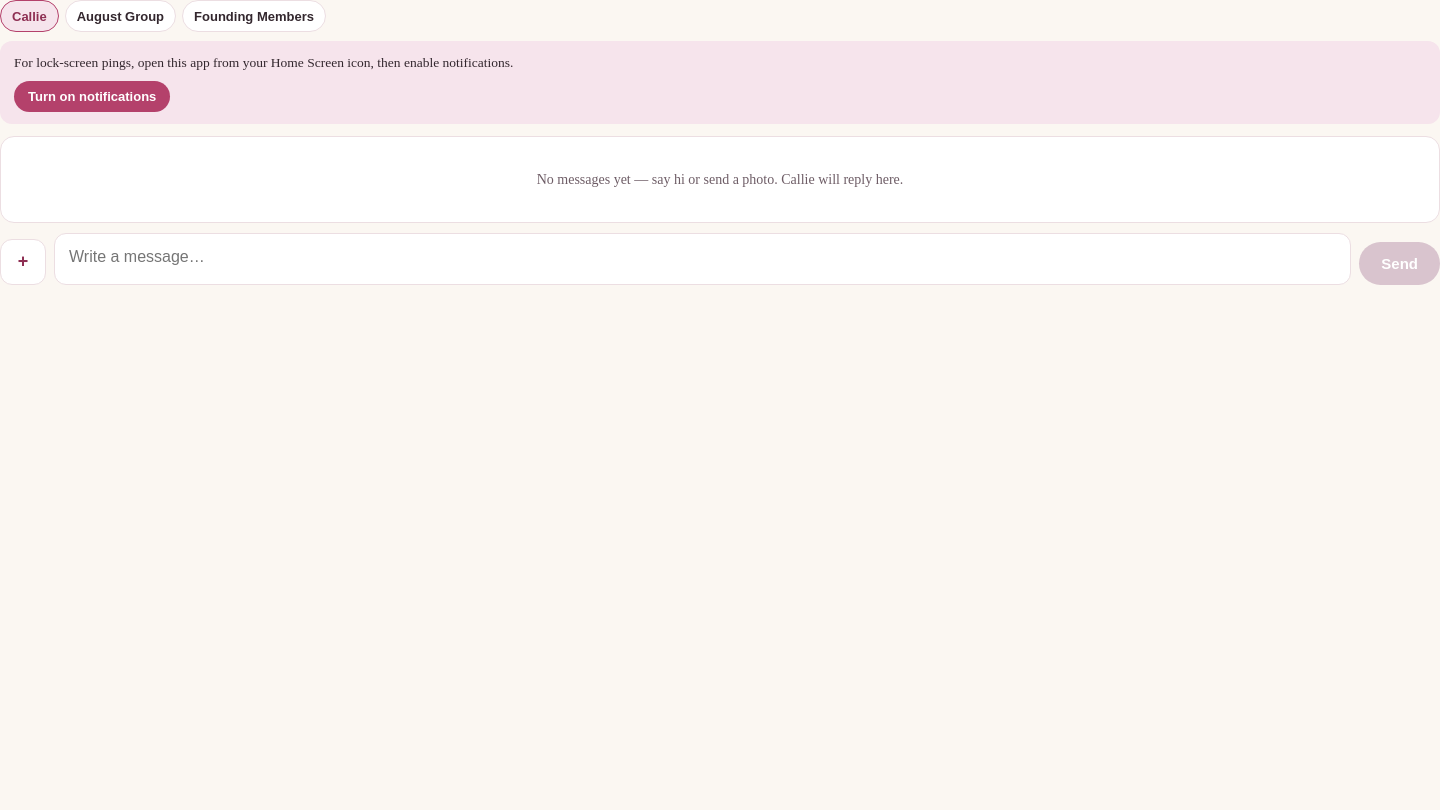
Test: load earlier messages › hides the control for a thread that fits in one page
Click the button "August Group" at coordinates (120, 16), box [65,0,176,32]
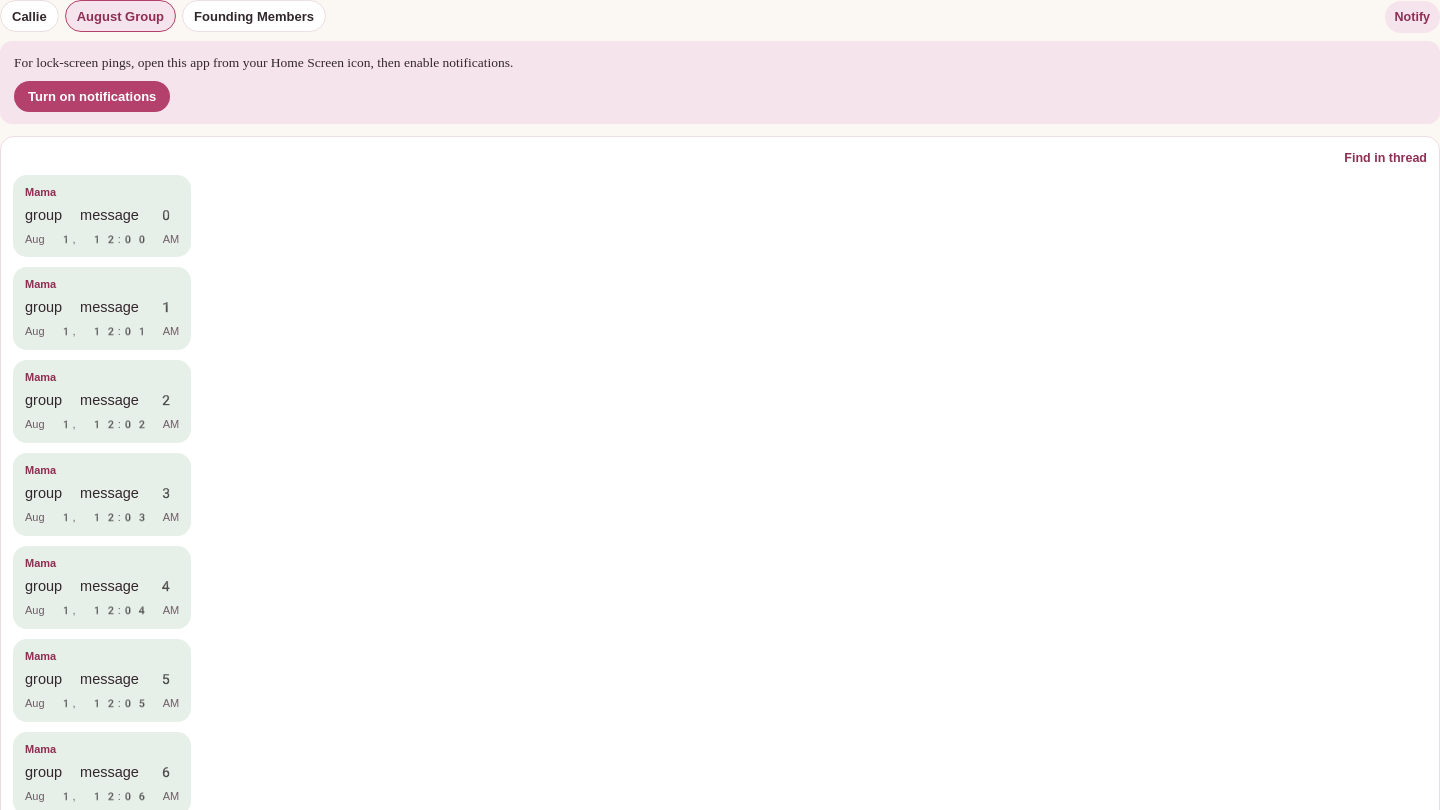
Expected: the text "group message 1" is shown, [25,299,175,316]
